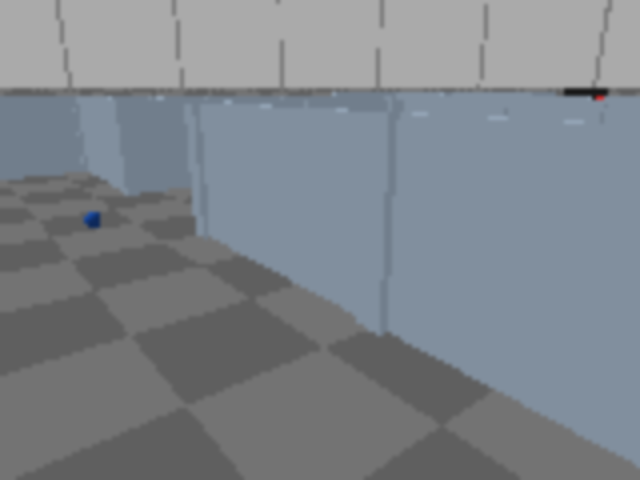puck: (81, 210, 105, 229)
